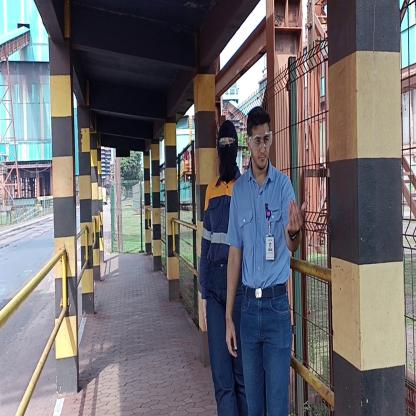Balaclava: (216, 120, 237, 180)
Operacional: (199, 177, 230, 269)
